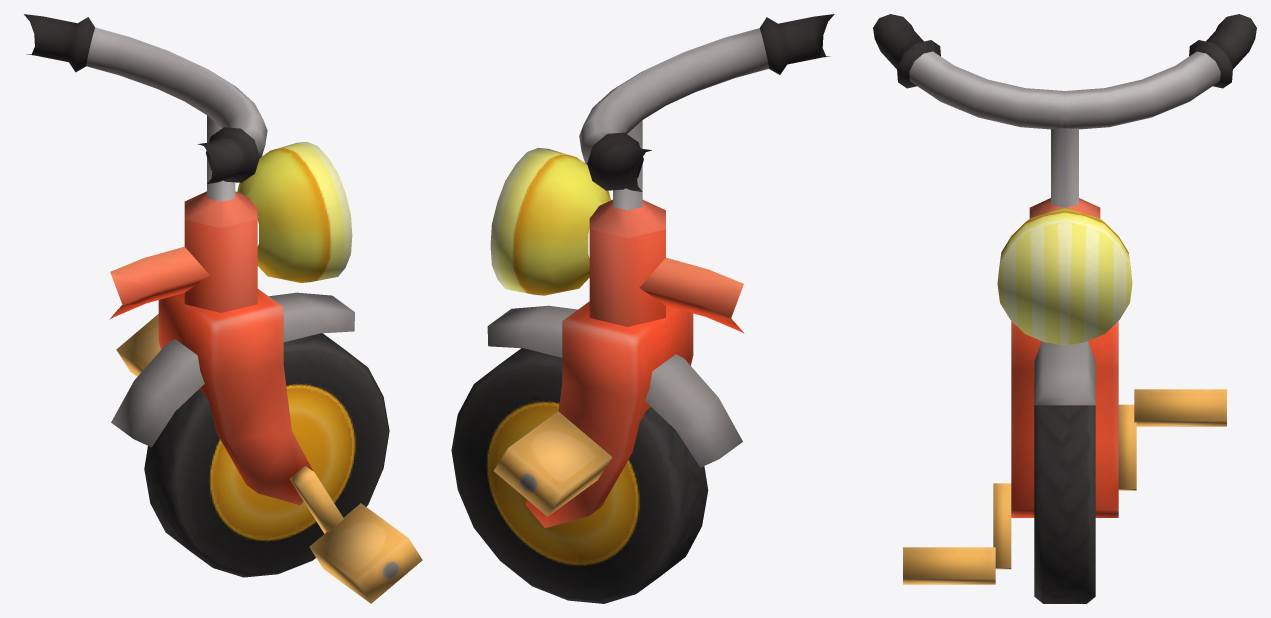
Rendered from bike_left.glb.
The picture shows the model from 3 angles, left to right: view 1: azimuth 30°, elevation 25°; view 2: azimuth 150°, elevation 25°; view 3: azimuth 270°, elevation 25°; orthographic projection. The views are drawn at different scales.
Parts seen in each view (by area): view 1: bike_left; view 2: bike_left; view 3: bike_left.
Part boxes in pixels (x1=…): bike_left: x1=24, y1=14, x2=422, y2=603; bike_left: x1=451, y1=14, x2=834, y2=603; bike_left: x1=873, y1=14, x2=1256, y2=603.
Size of the model in its own units: 0.6071 by 1.13 by 0.7754.
Materials: 1 (1 with a texture image).
